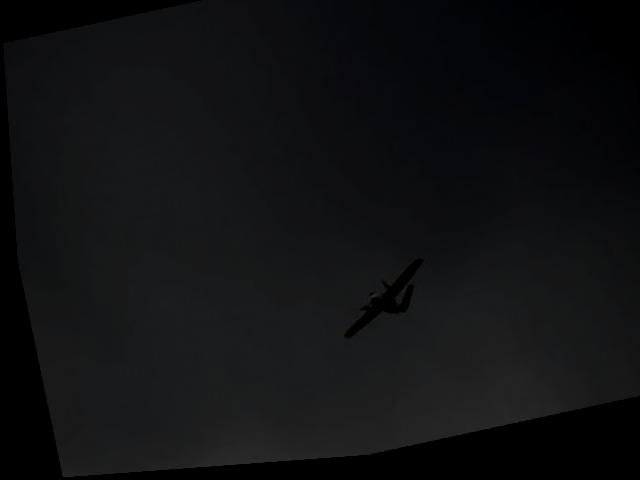uav: (318, 251, 436, 350)
